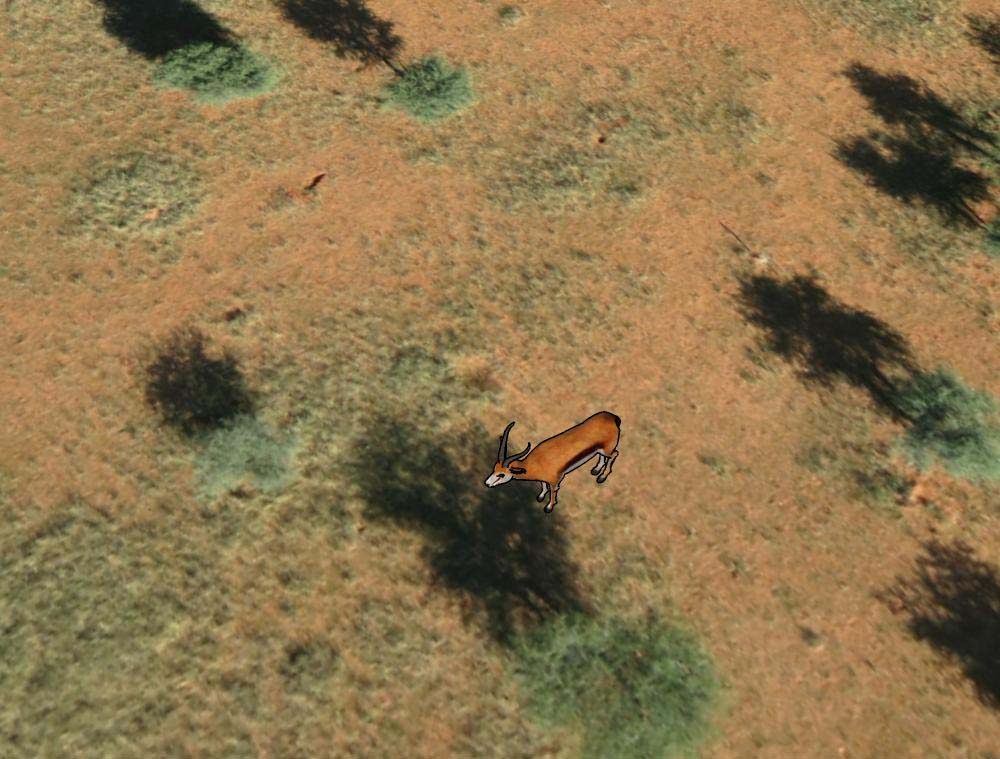springbok: (483, 409, 625, 514)
